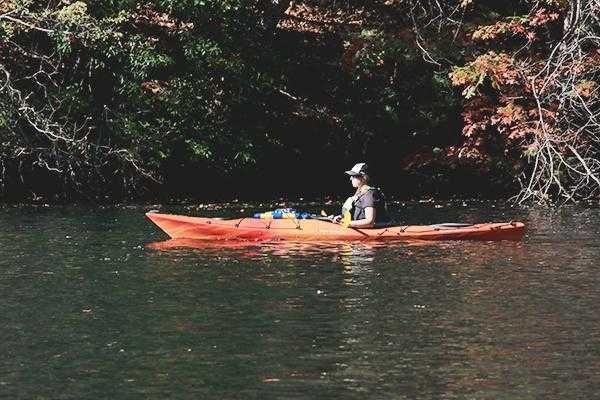kayak: (145, 210, 526, 250)
